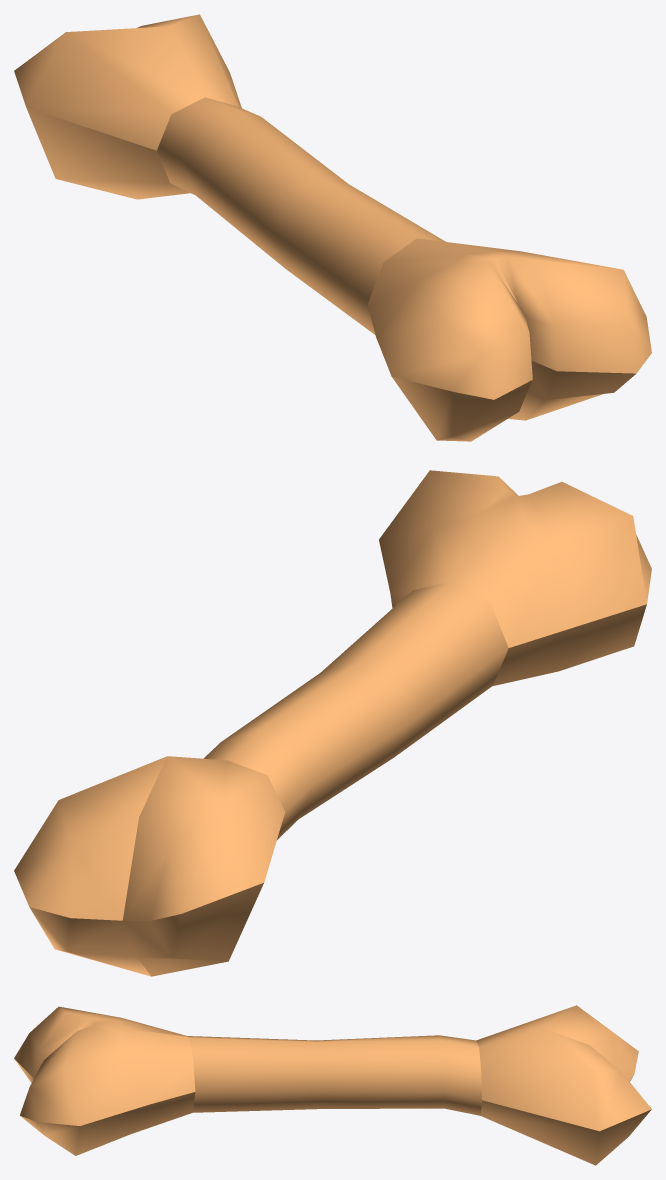
File: Bone.fbx
The picture shows the model from 3 angles, top to bottom: view 1: azimuth 30°, elevation 25°; view 2: azimuth 150°, elevation 25°; view 3: azimuth 270°, elevation 25°; orthographic projection. The views are drawn at different scales.
Visible parts, largest first — view 1: Bone; view 2: Bone; view 3: Bone.
Boxes of the visible parts, x1,y1,x2,y2 form: Bone: [14, 14, 651, 441]; Bone: [14, 470, 651, 976]; Bone: [14, 1005, 651, 1165].
Bounding box in the file's own units: 0.1731 × 0.1285 × 0.5473.
